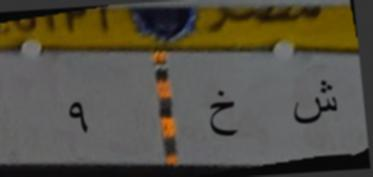9: (63, 96, 94, 141)
khaa: (204, 86, 241, 142)
sheen: (289, 80, 339, 131)
